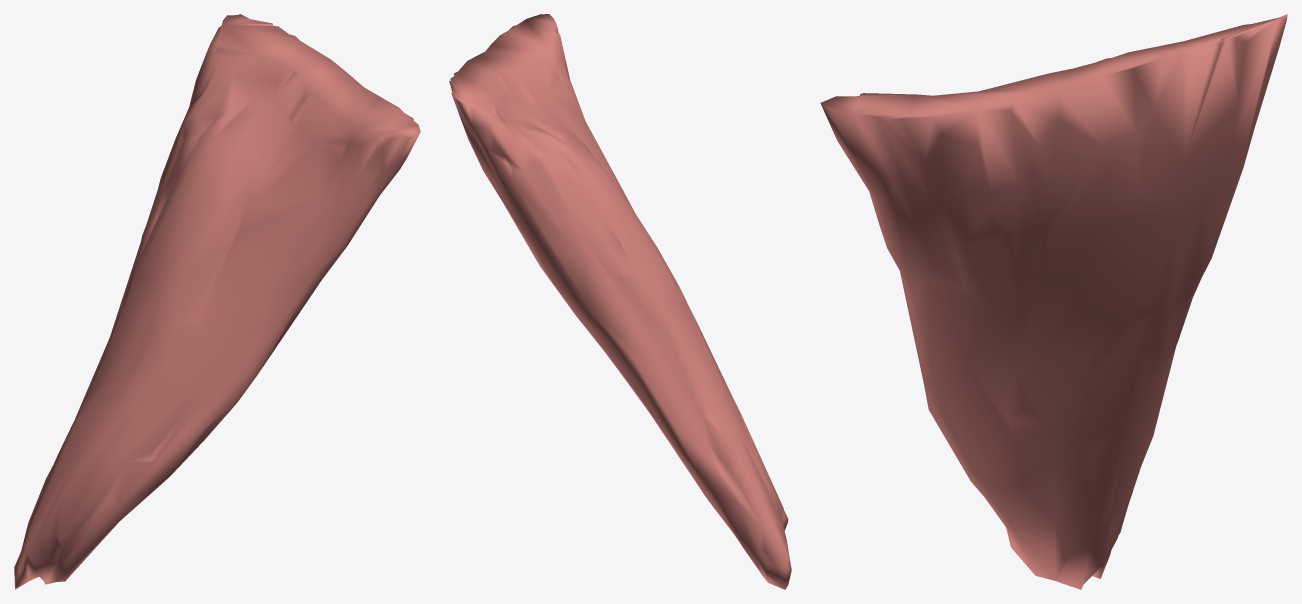
3 renders of one model, left to right at view 1: azimuth 30°, elevation 25°; view 2: azimuth 150°, elevation 25°; view 3: azimuth 270°, elevation 25°, orthographic. The views are drawn at different scales.
Visible parts, largest first — view 1: ZA_0d40ec91fd7301d3; view 2: ZA_0d40ec91fd7301d3; view 3: ZA_0d40ec91fd7301d3.
Part boxes in pixels (x1,y1,x2,y2): ZA_0d40ec91fd7301d3: (14,14,420,589); ZA_0d40ec91fd7301d3: (449,14,791,589); ZA_0d40ec91fd7301d3: (820,14,1287,589).
Bounding box in the file's own units: 0.0353 × 0.0466 × 0.0253.
